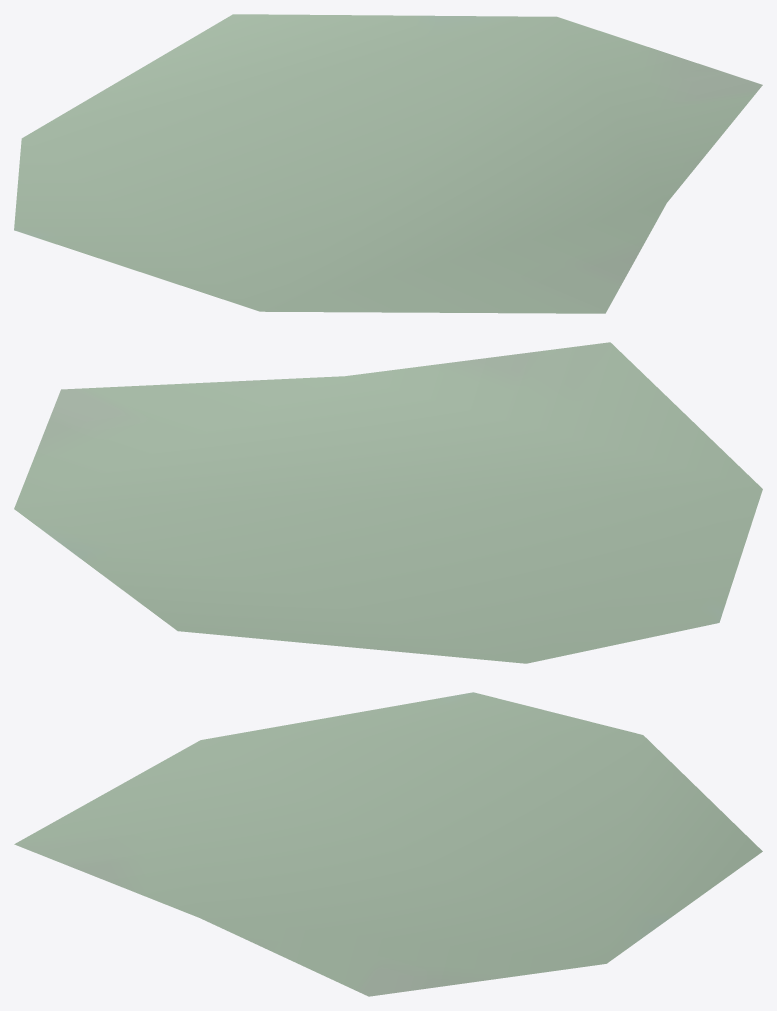
Rendered from TROLLHOLE02_HOLECAP71.fbx.
The picture shows the model from 3 angles, top to bottom: view 1: azimuth 30°, elevation 25°; view 2: azimuth 150°, elevation 25°; view 3: azimuth 270°, elevation 25°; orthographic projection. The views are drawn at different scales.
Parts seen in each view (by area): view 1: TROLLHOLE02_HOLECAP71; view 2: TROLLHOLE02_HOLECAP71; view 3: TROLLHOLE02_HOLECAP71.
Part boxes in pixels (x1,y1,x2,y2): TROLLHOLE02_HOLECAP71: [14, 14, 762, 313]; TROLLHOLE02_HOLECAP71: [14, 342, 762, 663]; TROLLHOLE02_HOLECAP71: [14, 692, 762, 996].
Bounding box in the file's own units: 19463 × 466 × 19244.
1 material, 1 textured.
